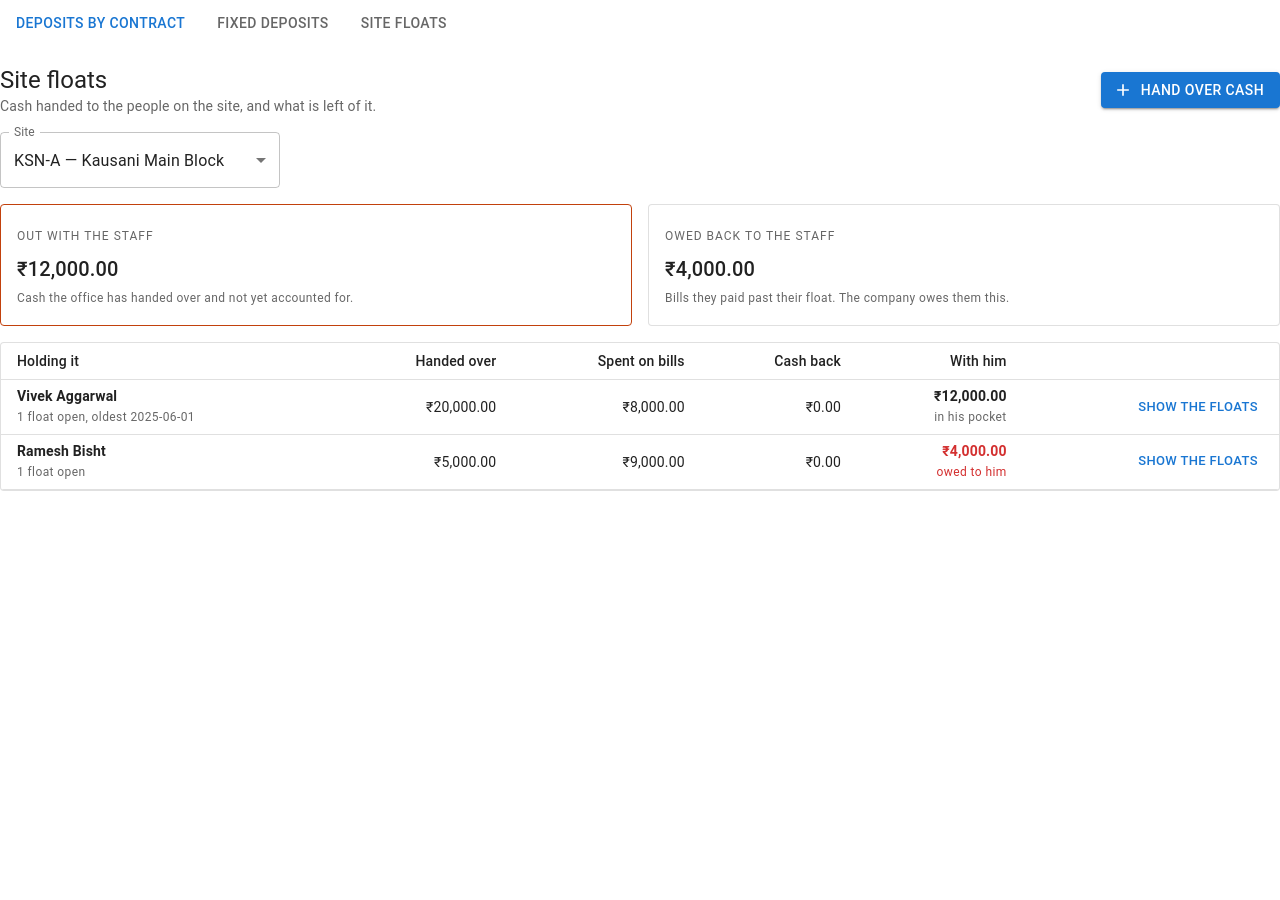
Test: SiteFloatsPage › offers the people posted to the site, with what each already holds
The image size is (1280, 900).
Click the button "Hand over cash" at (1190, 90), box [1101, 72, 1279, 108]
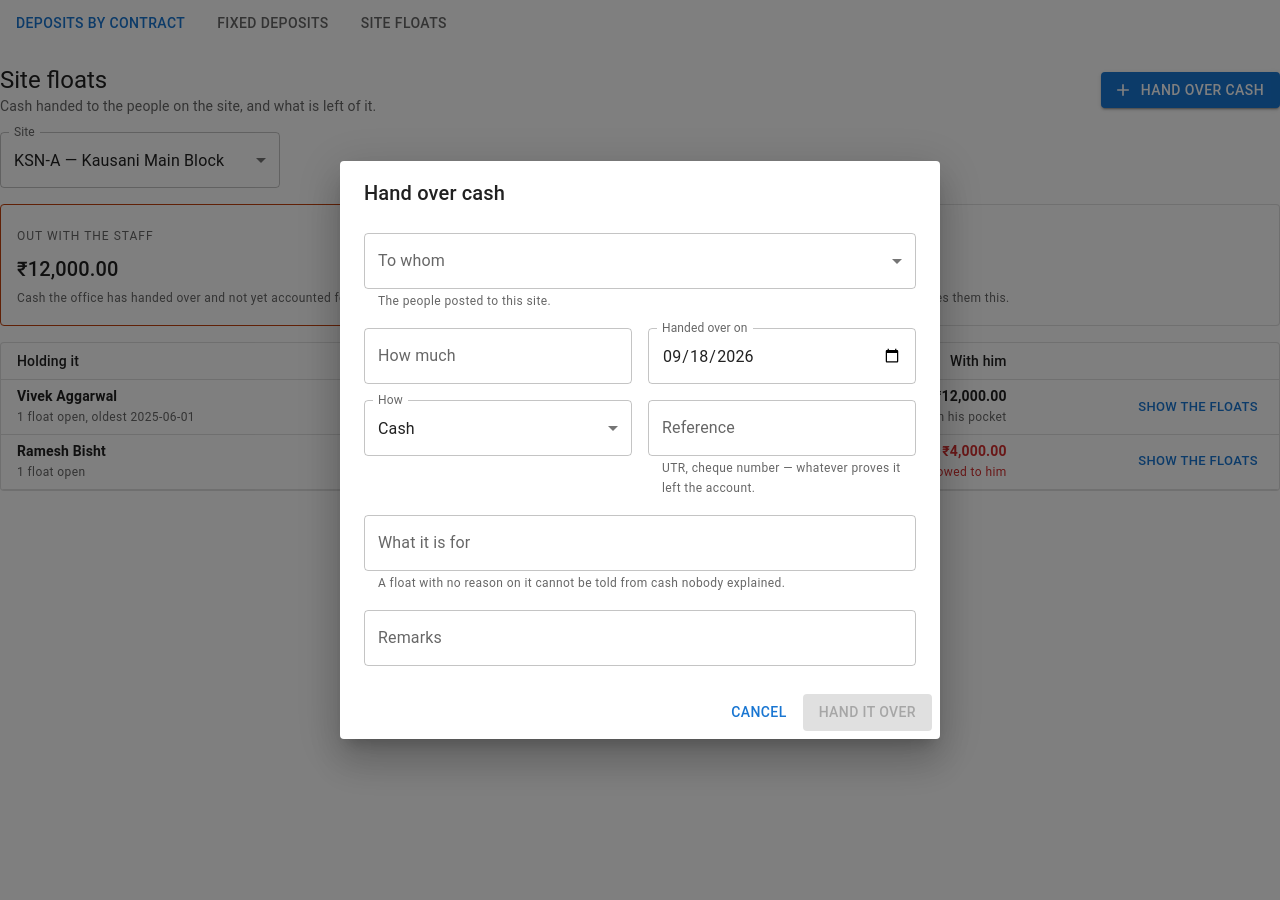
Click the dropdown named "To whom" at (640, 261), box [364, 233, 916, 289]
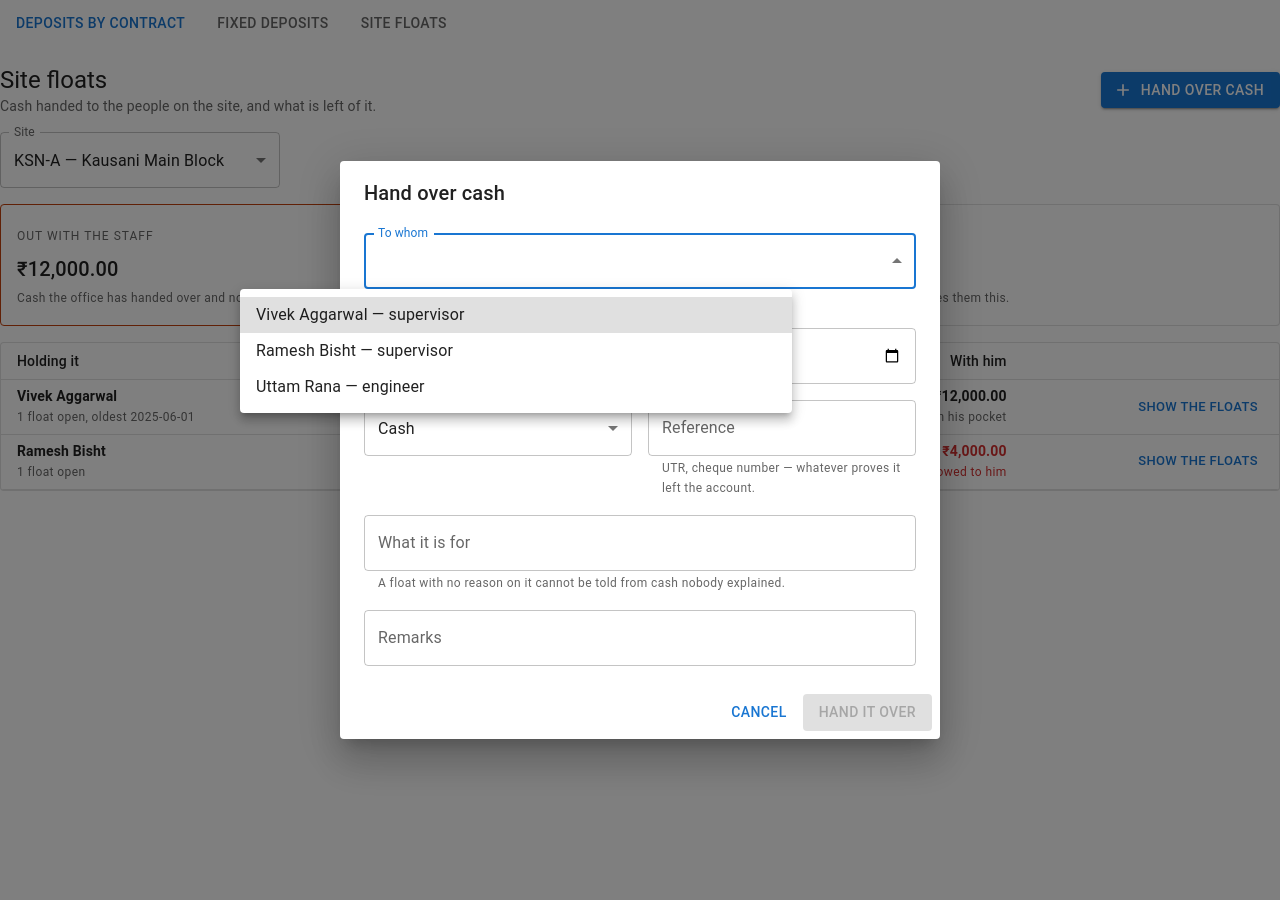
Click the option "Vivek Aggarwal — supervisor" at (312, 314), box [240, 297, 792, 333]
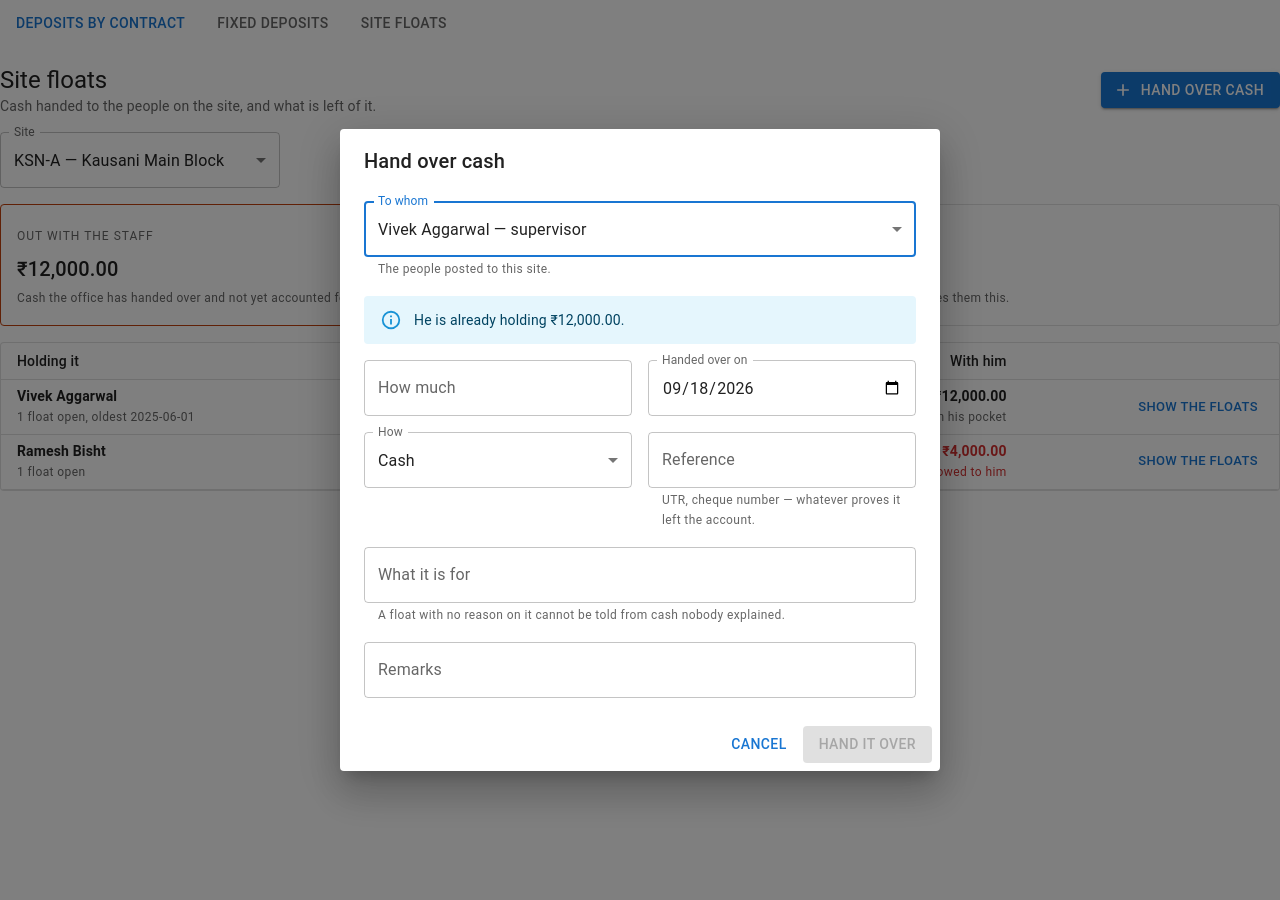
Result: the text "He is already holding ₹12,000.00." is shown at [414, 312, 624, 328]
